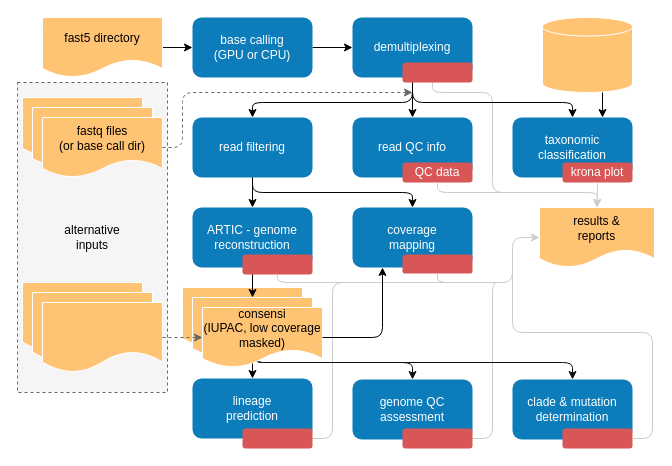
This 672x466 diagram has some shape labels left out. Here are the shapes that lost their labels. From the top down, the centre of each, then its label:
At point (437, 72): "fastq files".
At point (587, 54): "human SARS-CoV2 database".
At point (277, 264): "Genomes".
At point (437, 263): "cov. plots".
At point (102, 337): "fasta files (or multifasta)".
At point (277, 438): "lineage".
At point (437, 438): "QC info".
At point (597, 438): "summary".
